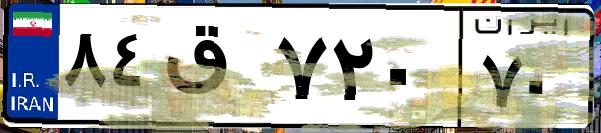0: (385, 28, 445, 110), (525, 38, 570, 115)
2: (330, 28, 385, 110)
4: (110, 28, 158, 98)
7: (270, 28, 330, 110), (475, 38, 525, 113)
8: (57, 26, 110, 100)
ق: (158, 20, 270, 120)
